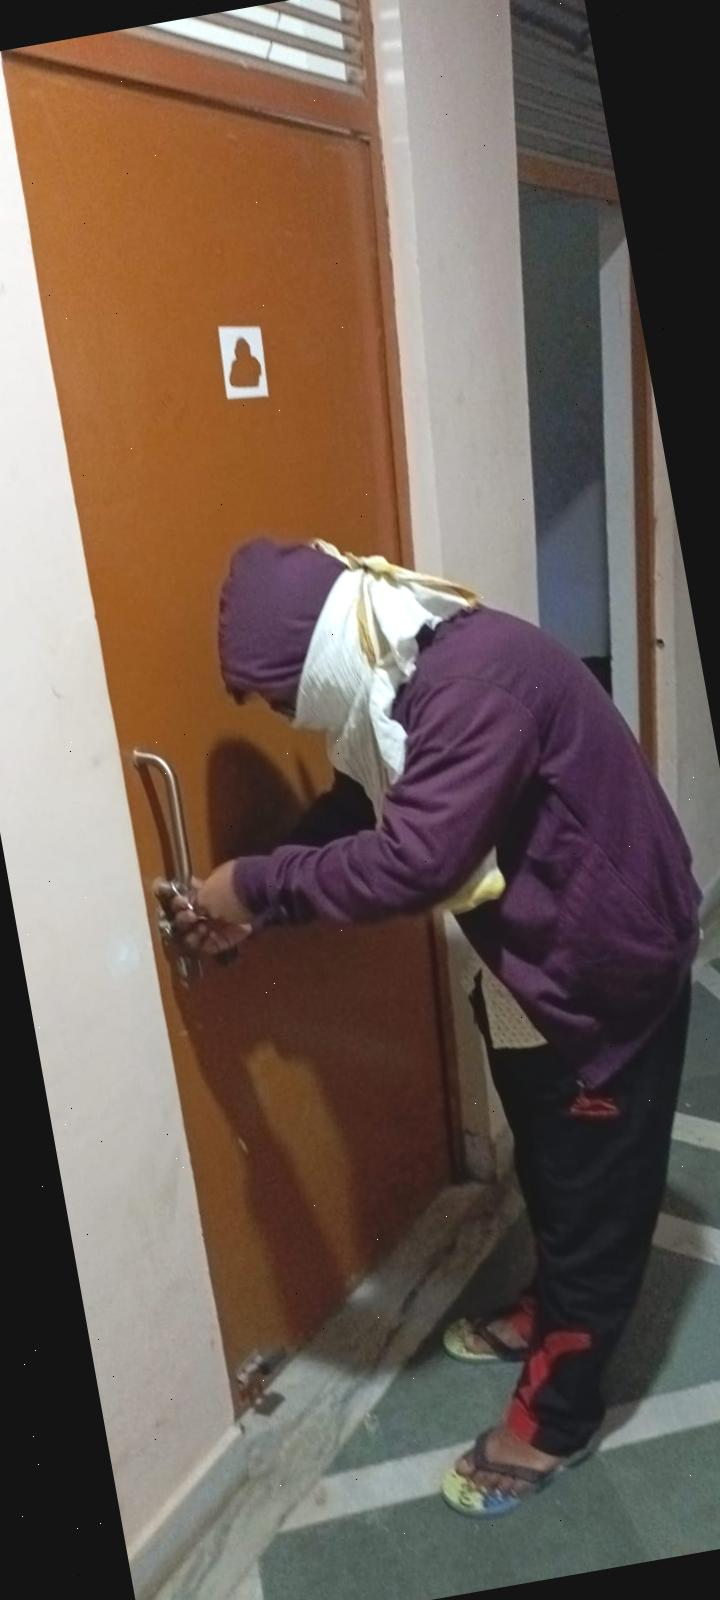suspicion: (0, 452, 720, 1600), (135, 412, 720, 1587)
